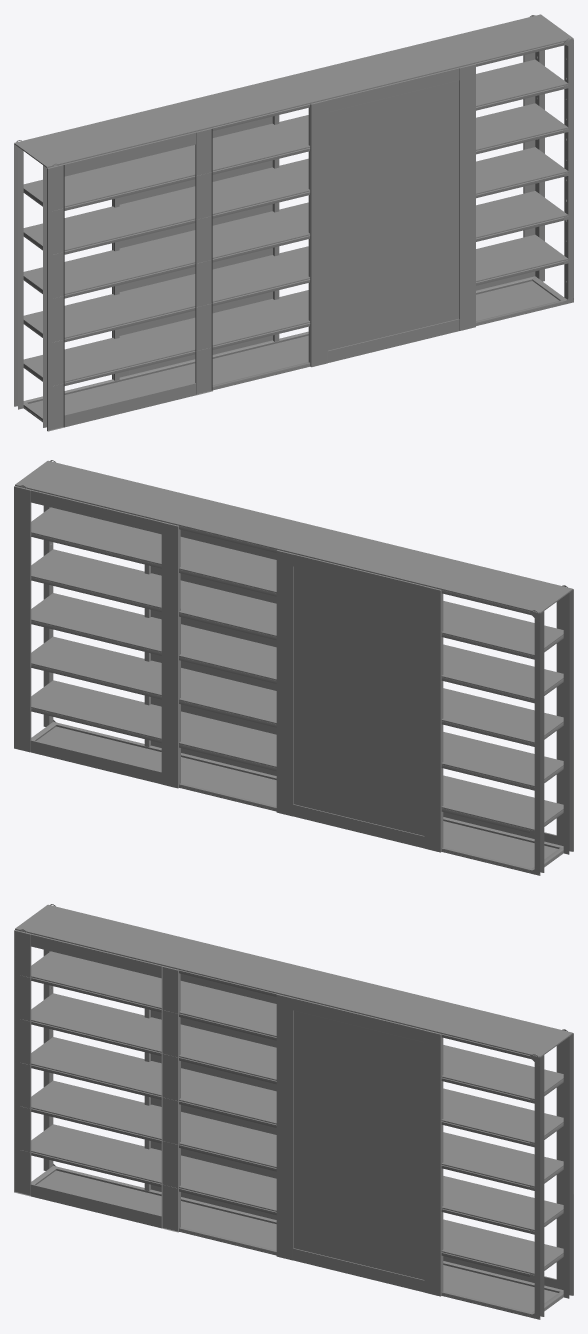
The model's file is wrack.fbx.
3 renders of one model, top to bottom at view 1: azimuth 30°, elevation 25°; view 2: azimuth 150°, elevation 25°; view 3: azimuth 330°, elevation 25°, orthographic.
Parts seen in each view (by area): view 1: metalwrack.430; view 2: metalwrack.430; view 3: metalwrack.430.
Part boxes in pixels (box(x1,y1,x2,y2)): metalwrack.430: box(14, 14, 573, 431); metalwrack.430: box(14, 460, 573, 875); metalwrack.430: box(14, 904, 573, 1319).
Size of the model in its own units: 18478 by 8890 by 2120.
1 material, 1 textured.
